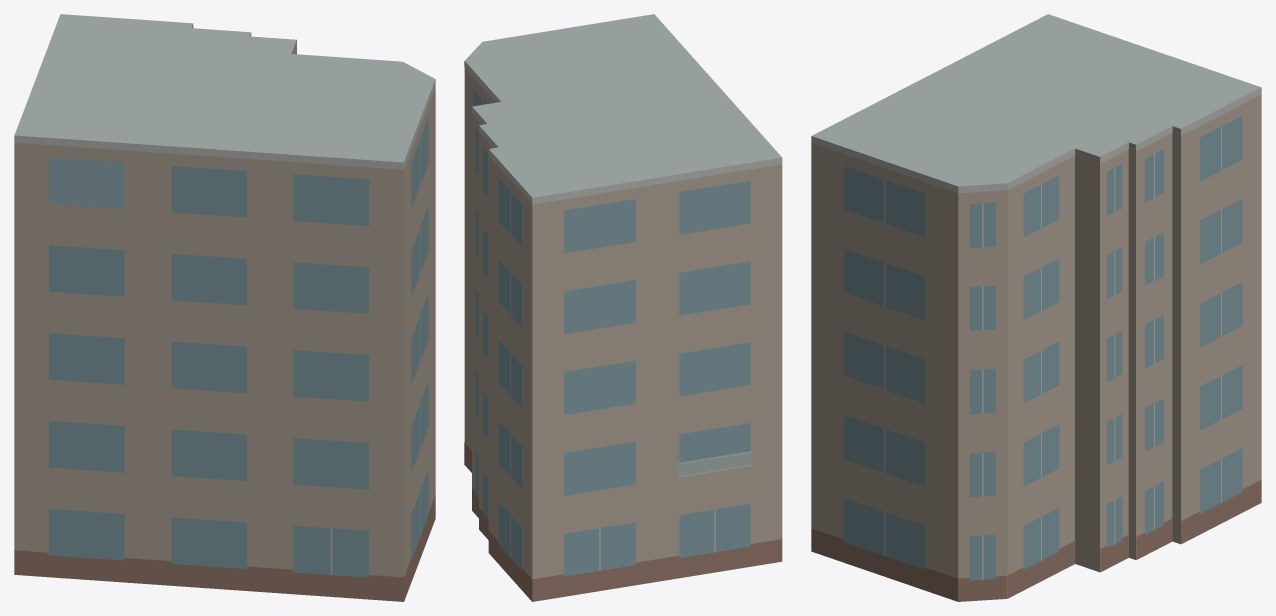
The model's file is survey-upis-32790570.glb.
3 renders of one model, left to right at view 1: azimuth 30°, elevation 25°; view 2: azimuth 150°, elevation 25°; view 3: azimuth 270°, elevation 25°, orthographic. The views are drawn at different scales.
Parts seen in each view (by area): view 1: survey-upis-32790570.tmp; view 2: survey-upis-32790570.tmp; view 3: survey-upis-32790570.tmp.
Boxes of the visible parts, x1,y1,x2,y2 form: survey-upis-32790570.tmp: (14, 14, 435, 601); survey-upis-32790570.tmp: (464, 14, 782, 601); survey-upis-32790570.tmp: (811, 14, 1261, 601).
Size of the model in its own units: 13.14 by 14.75 by 14.49.
